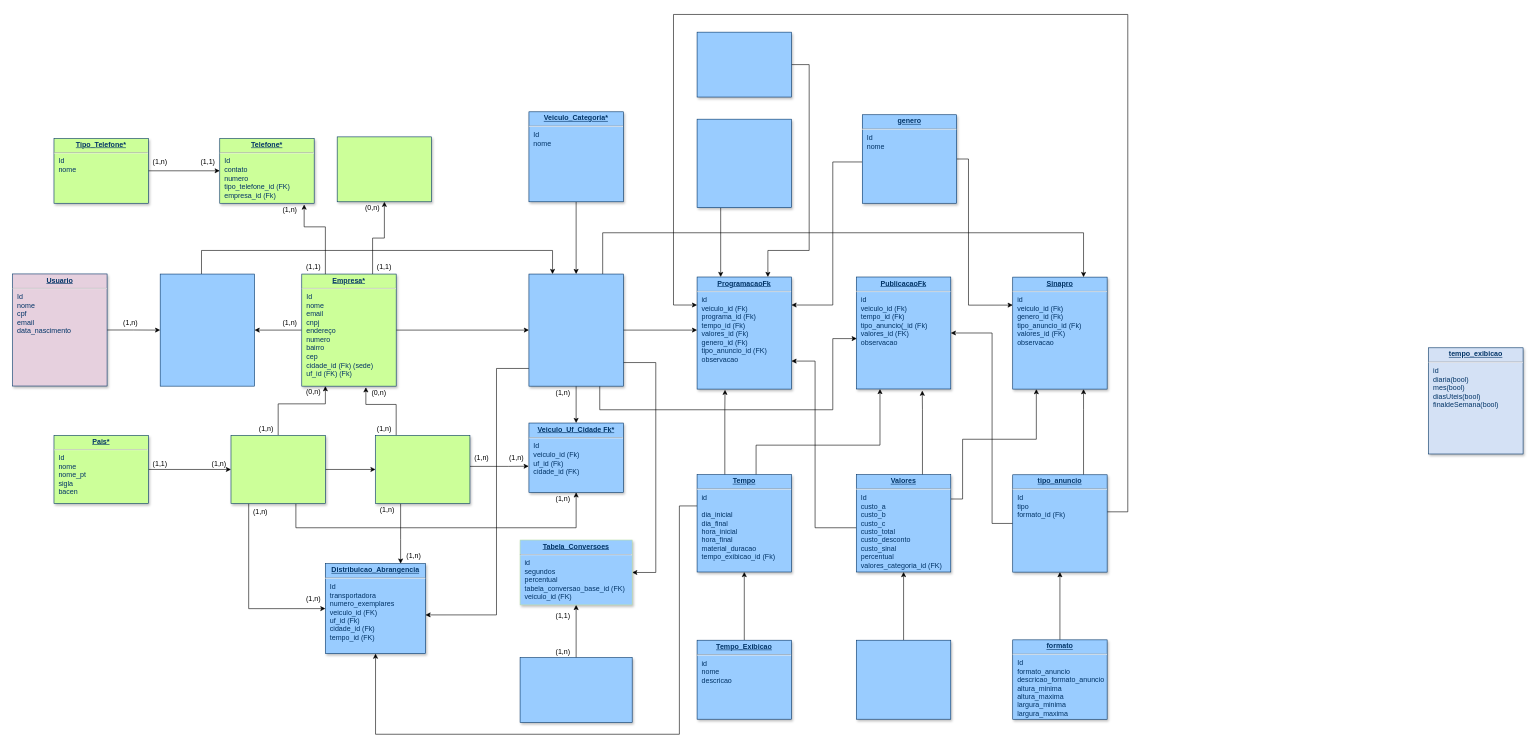
The diagram is 1537 pixels wide and 749 high, and some of its shapes have lost their labels. The centre of each missing label's shape, as x and y in pixels:
"base_calculo Id programacao_id (Fk) preco numero_colunas" belongs at [744,65].
"Cidade* Id nome uf_id (FK) ibge" belongs at [423,470].
"Programa Id nome" belongs at [744,164].
"Site* Id nome empresa_id" belongs at [384,170].
"Tabela Conversao Base id tempo" belongs at [576,691].
"Uf* Id nome uf ibge pais_id (Fk) ddd" belongs at [278,470].
"Usuario_Empresa(Fk) Id usuario_id (Fk) empresa_id (Fk)" belongs at [207,329].
"valores_categoria Id nome" belongs at [903,680].
"Veiculo* Id empresa_id (Fk) veiculo_categoria_id (Fk) usuario_empresa_id (FK)" belongs at [576,330].
